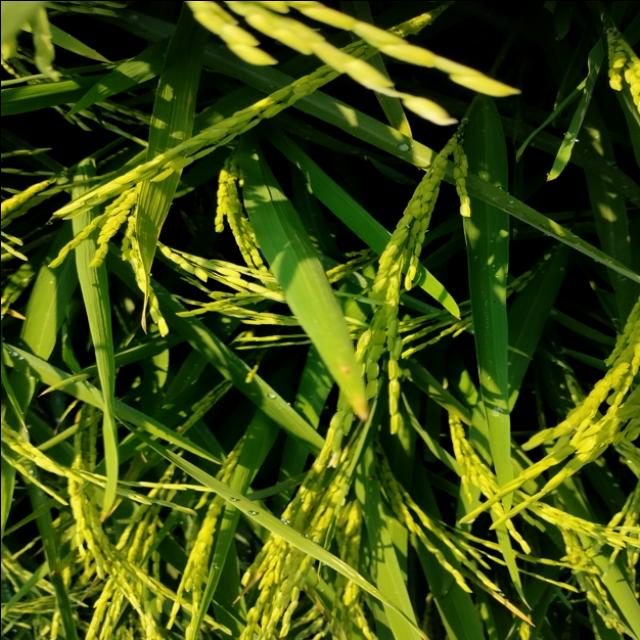healthy: (336, 364, 376, 424)
